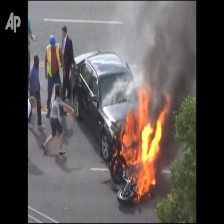fire_h: (121, 85, 170, 201)
fire_l: (110, 149, 117, 170), (121, 162, 127, 168)
